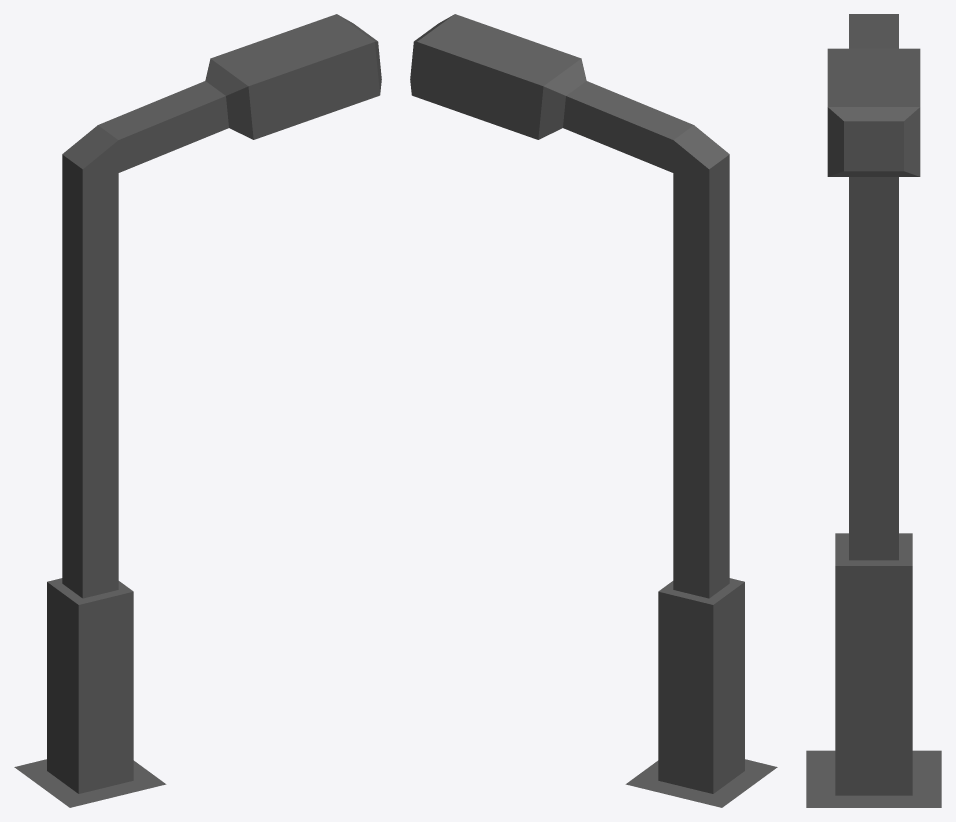
File: LightPole.fbx
3 renders of one model, left to right at view 1: azimuth 30°, elevation 25°; view 2: azimuth 150°, elevation 25°; view 3: azimuth 270°, elevation 25°, orthographic. The views are drawn at different scales.
Visible parts, largest first — view 1: LighttPole; view 2: LighttPole; view 3: LighttPole.
Boxes of the visible parts, box(x1,y1,x2,y2) form: LighttPole: box(14, 14, 381, 807); LighttPole: box(410, 14, 777, 807); LighttPole: box(806, 14, 941, 807).
Bounding box in the file's own units: 271 × 540 × 80.
